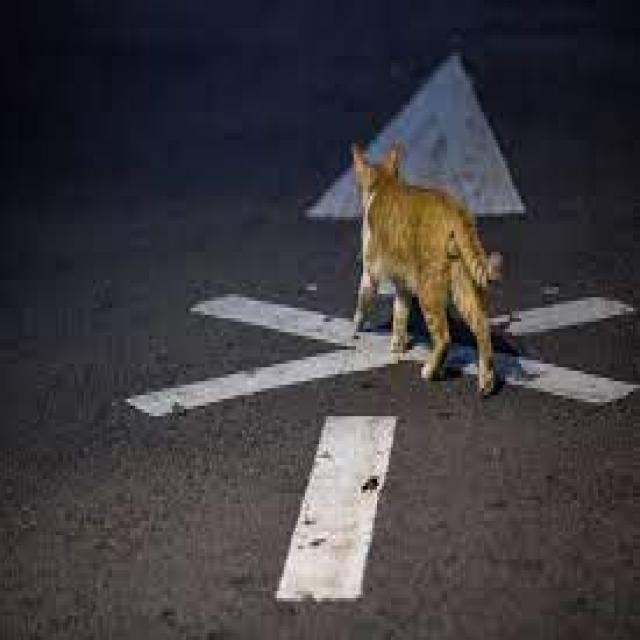cat: (308, 85, 522, 414)
